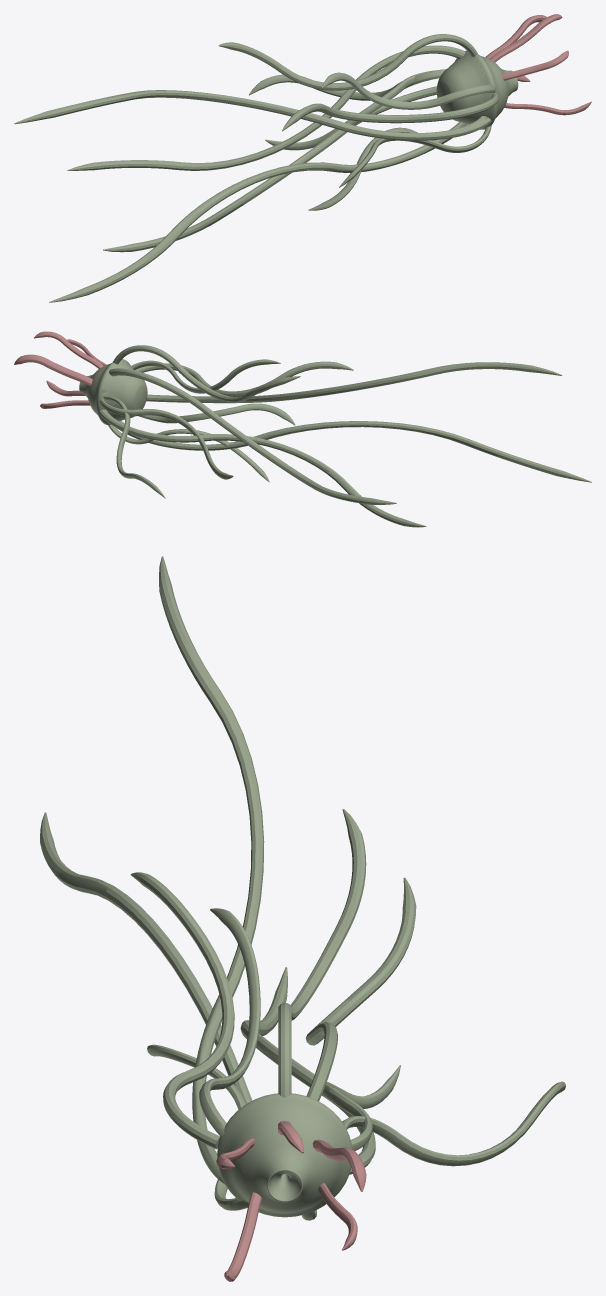
The model's file is Pathogenic Organism_1_3dsMax 2020.FBX.
3 renders of one model, top to bottom at view 1: azimuth 30°, elevation 25°; view 2: azimuth 150°, elevation 25°; view 3: azimuth 270°, elevation 25°, orthographic. The views are drawn at different scales.
Parts seen in each view (by area): view 1: Pathogenic Organism; view 2: Pathogenic Organism; view 3: Pathogenic Organism.
Boxes of the visible parts, <box> form: Pathogenic Organism: <box>14,14,591,302</box>; Pathogenic Organism: <box>14,331,591,527</box>; Pathogenic Organism: <box>40,556,565,1281</box>.
Bounding box in the file's own units: 12100 × 3768 × 5515.
